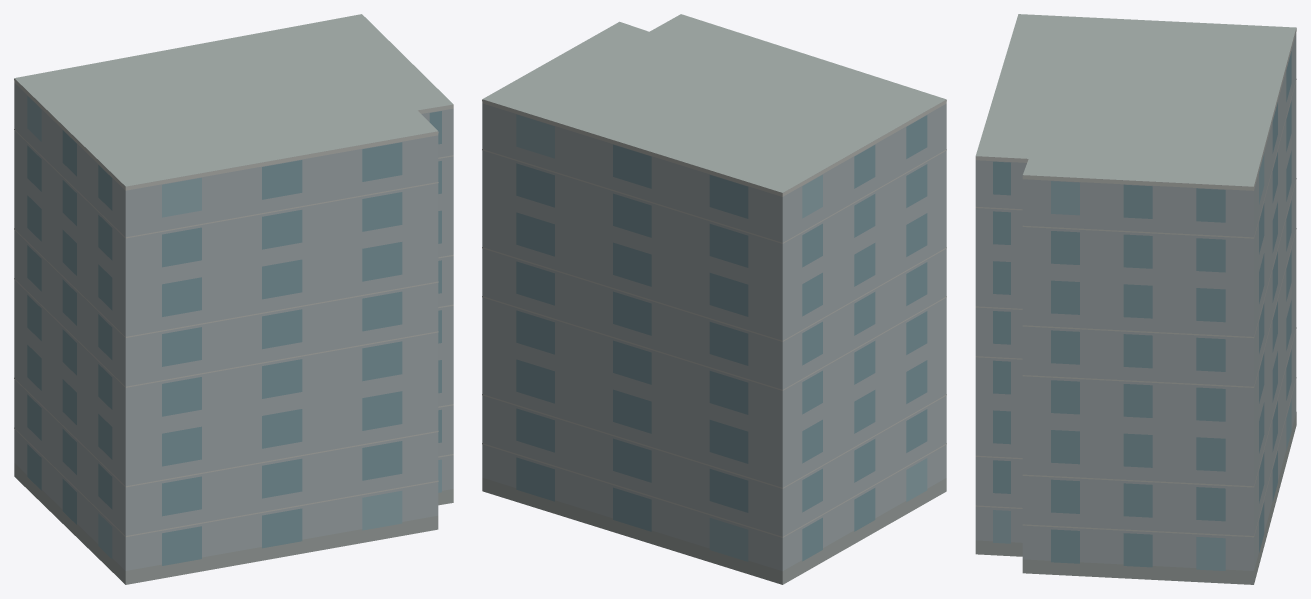
Rendered from survey-upis-32928775.glb.
3 renders of one model, left to right at view 1: azimuth 30°, elevation 25°; view 2: azimuth 150°, elevation 25°; view 3: azimuth 270°, elevation 25°, orthographic.
Parts seen in each view (by area): view 1: survey-upis-32928775.tmp; view 2: survey-upis-32928775.tmp; view 3: survey-upis-32928775.tmp.
Boxes of the visible parts, x1,y1,x2,y2 form: survey-upis-32928775.tmp: (14,14,453,584); survey-upis-32928775.tmp: (482,14,946,584); survey-upis-32928775.tmp: (975,14,1296,584).
Size of the model in its own units: 21.84 by 23.45 by 17.15.
